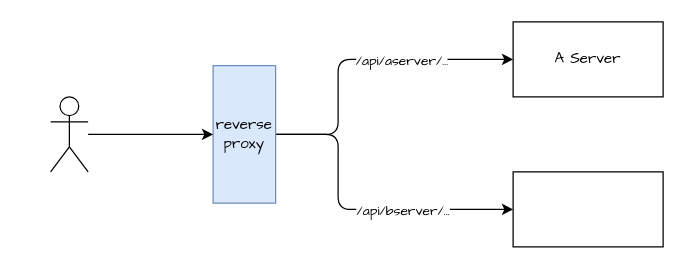
Image size: 685x269. Some labels were removed from this diagram. Here are the shapes that lost their labels. From the top down, the centre of each, then its label:
At (68,134): "user or client".
At (587,209): "B Server".
